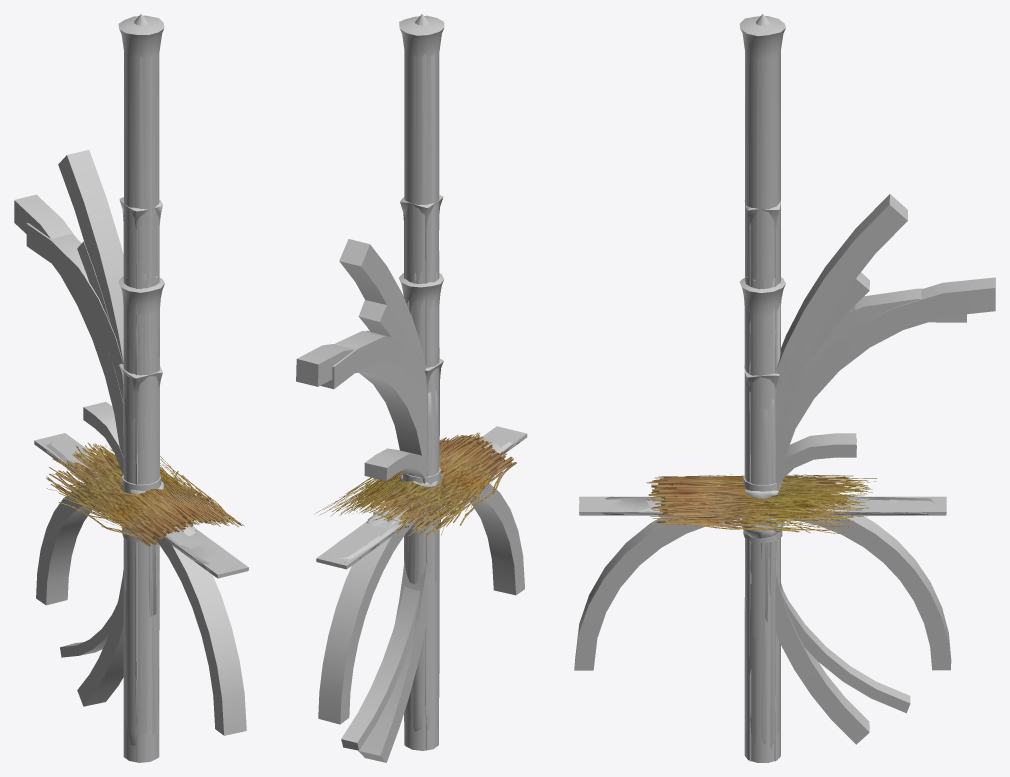
Rendered from WoodenElements.fbx.
The picture shows the model from 3 angles, left to right: view 1: azimuth 30°, elevation 25°; view 2: azimuth 150°, elevation 25°; view 3: azimuth 270°, elevation 25°; orthographic projection.
Parts seen in each view (by area): view 1: WoodenElements:Wood, polySurface18, Plane001, polySurface054, polySurface19, polySurface4, polySurface17, polySurface053, polySurface055, polySurface5, polySurface31, polySurface11 (+7 smaller); view 2: WoodenElements:Wood, polySurface18, Plane001, polySurface053, polySurface055, polySurface19, polySurface054, polySurface4, polySurface31, polySurface5, polySurface17, polySurface22 (+2 smaller); view 3: WoodenElements:Wood, polySurface18, Plane001, polySurface053, polySurface054, polySurface055, polySurface17, polySurface19, polySurface4, polySurface31, polySurface5, polySurface052 (+3 smaller).
Part boxes in pixels (x1,y1,x2,y2): WoodenElements:Wood: [26, 14, 246, 735]; polySurface18: [118, 15, 164, 484]; Plane001: [46, 442, 244, 546]; polySurface054: [58, 150, 123, 361]; polySurface19: [123, 258, 158, 762]; polySurface4: [125, 274, 155, 745]; polySurface17: [118, 276, 164, 483]; polySurface053: [14, 194, 123, 457]; polySurface055: [77, 241, 123, 706]; polySurface5: [124, 394, 156, 616]; polySurface31: [34, 434, 248, 574]; polySurface11: [46, 437, 232, 565]; WoodenElements:Wood: [318, 14, 524, 750]; polySurface18: [399, 15, 444, 476]; Plane001: [314, 432, 516, 536]; polySurface053: [296, 344, 426, 483]; polySurface055: [358, 300, 426, 762]; polySurface19: [405, 253, 439, 750]; polySurface054: [339, 239, 425, 364]; polySurface4: [404, 271, 439, 731]; polySurface31: [316, 426, 526, 569]; polySurface5: [405, 389, 439, 584]; polySurface17: [399, 273, 444, 475]; polySurface22: [400, 195, 443, 365]; WoodenElements:Wood: [574, 14, 966, 713]; polySurface18: [739, 16, 785, 484]; Plane001: [646, 474, 876, 535]; polySurface053: [777, 277, 995, 490]; polySurface054: [776, 194, 907, 483]; polySurface055: [775, 272, 869, 744]; polySurface17: [739, 277, 785, 485]; polySurface19: [744, 261, 780, 762]; polySurface4: [744, 278, 780, 749]; polySurface31: [579, 496, 946, 512]; polySurface5: [744, 399, 780, 621]; polySurface052: [775, 305, 861, 578].
Size of what is drawn, in the model's own units: 255 by 1333 by 686.
